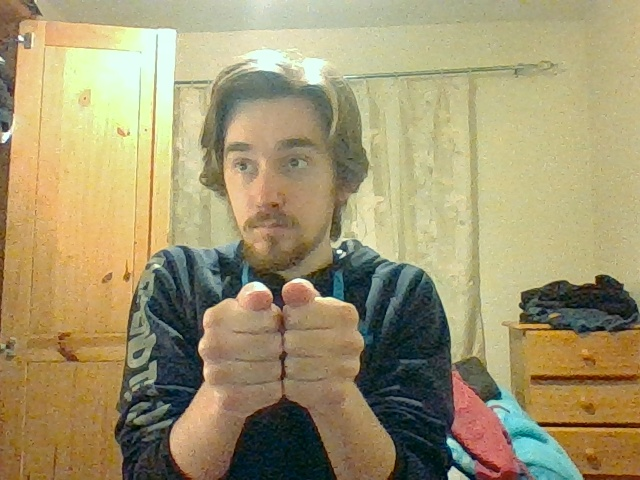brother: (198, 278, 364, 407)
